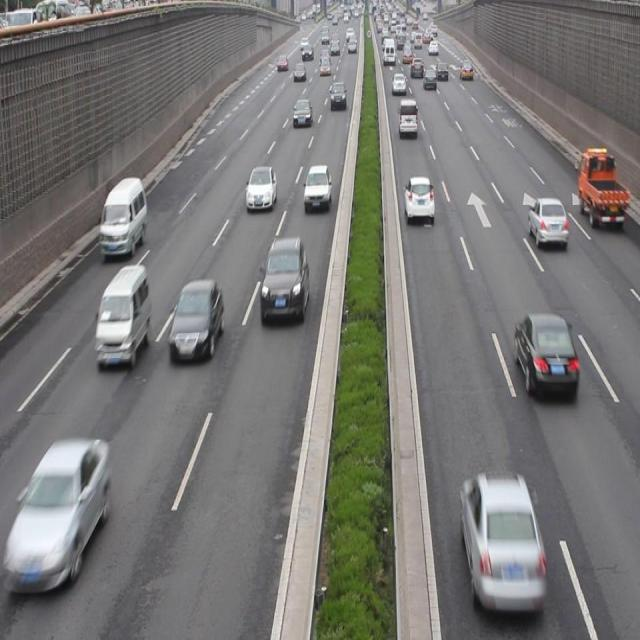bus: (576, 149, 624, 223)
car: (12, 442, 110, 593), (461, 474, 544, 601), (514, 311, 577, 399), (168, 281, 222, 360), (260, 238, 307, 324), (528, 196, 566, 250), (403, 176, 435, 222), (245, 168, 276, 207), (304, 167, 330, 209), (292, 96, 312, 128)
truck: (96, 266, 151, 372), (101, 177, 146, 256), (400, 99, 416, 140)
